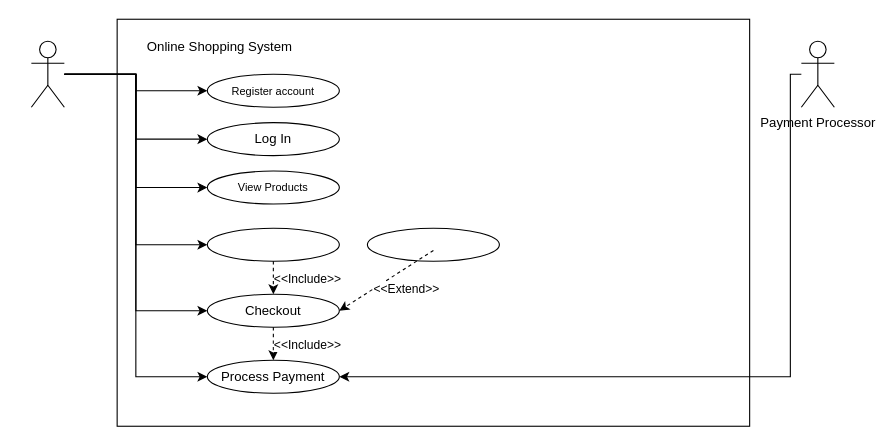
This 894x446 diagram has some shape labels left out. The centre of each missing label's shape, as x and y in pixels:
Apply Discount: (x=432, y=244)
Customer: (x=47, y=73)
Make Purchase: (x=272, y=244)
